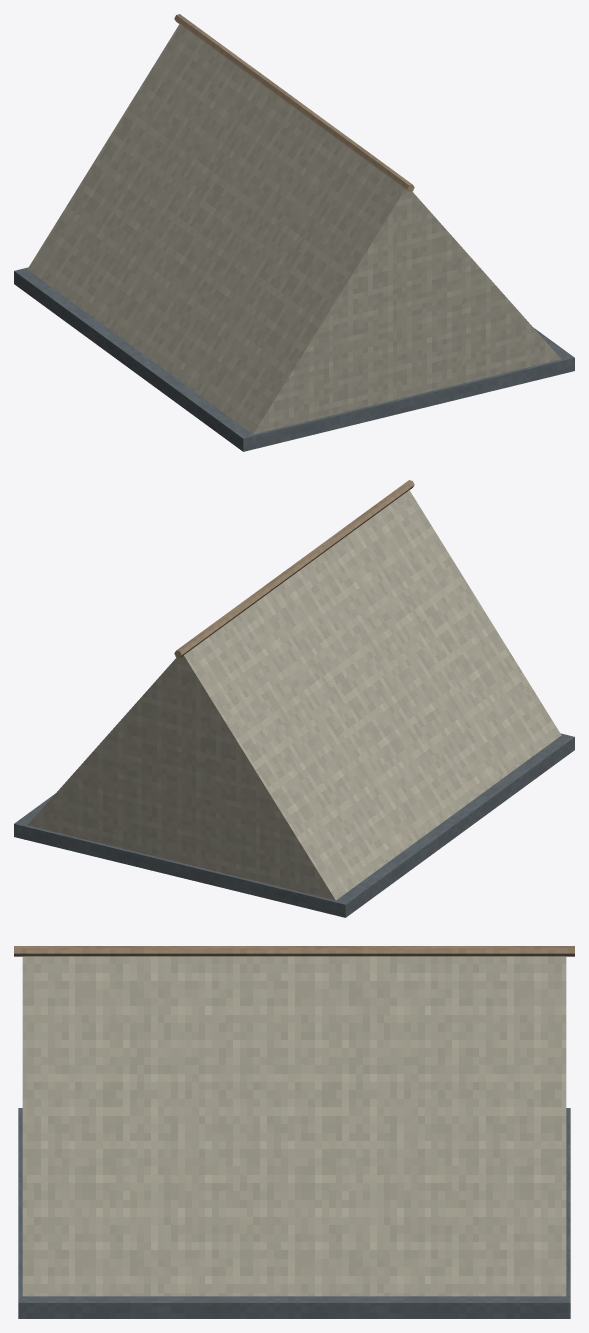
File: level_blockout_camp_tent.glb
The picture shows the model from 3 angles, top to bottom: view 1: azimuth 30°, elevation 25°; view 2: azimuth 150°, elevation 25°; view 3: azimuth 270°, elevation 25°; orthographic projection. The views are drawn at different scales.
Parts seen in each view (by area): view 1: level_blockout_camp_tent; view 2: level_blockout_camp_tent; view 3: level_blockout_camp_tent.
Boxes of the visible parts, <box> form: level_blockout_camp_tent: <box>14,14,574,451</box>; level_blockout_camp_tent: <box>14,480,574,917</box>; level_blockout_camp_tent: <box>14,946,574,1318</box>.
Size of the model in its own units: 2.63 by 1.73 by 3.2.
Materials: 3 (3 with a texture image).
